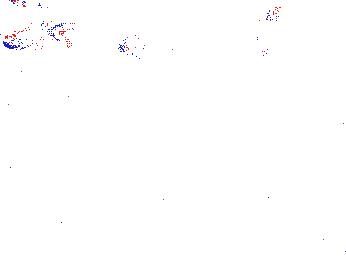X-ray fish: (190, 99, 225, 122)
red belly glassfish: (9, 1, 47, 11)
redtail glassfish: (3, 22, 72, 51), (253, 7, 279, 57), (114, 33, 150, 63)
